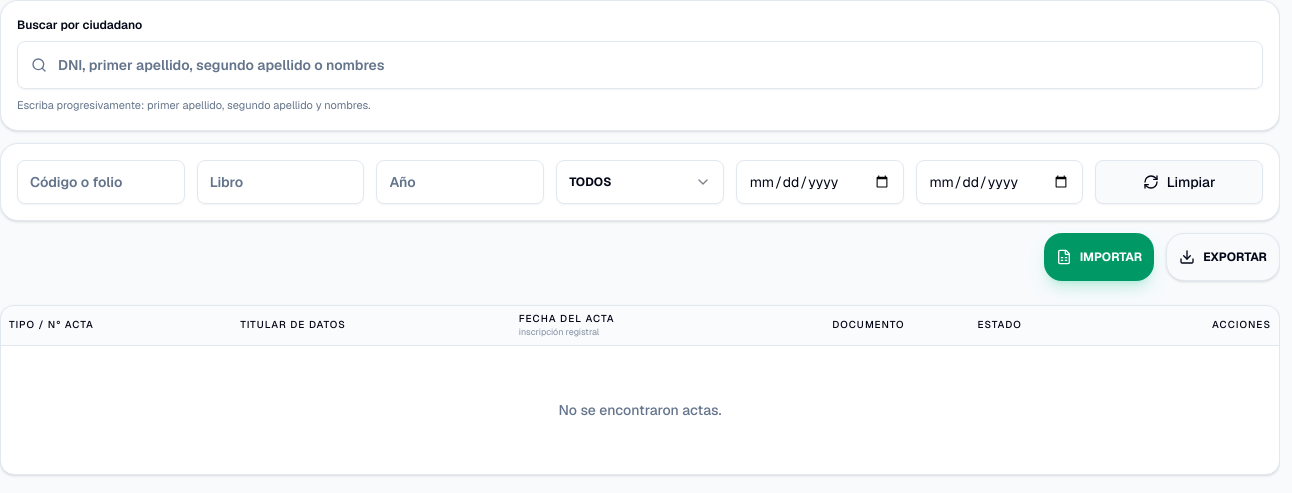
Filtros del Registro de Actas › limpiar restablece la búsqueda ciudadana
Type "QUISPE" into the field named "Buscar actas por ciudadano" at (640, 65), box [17,41,1263,89]
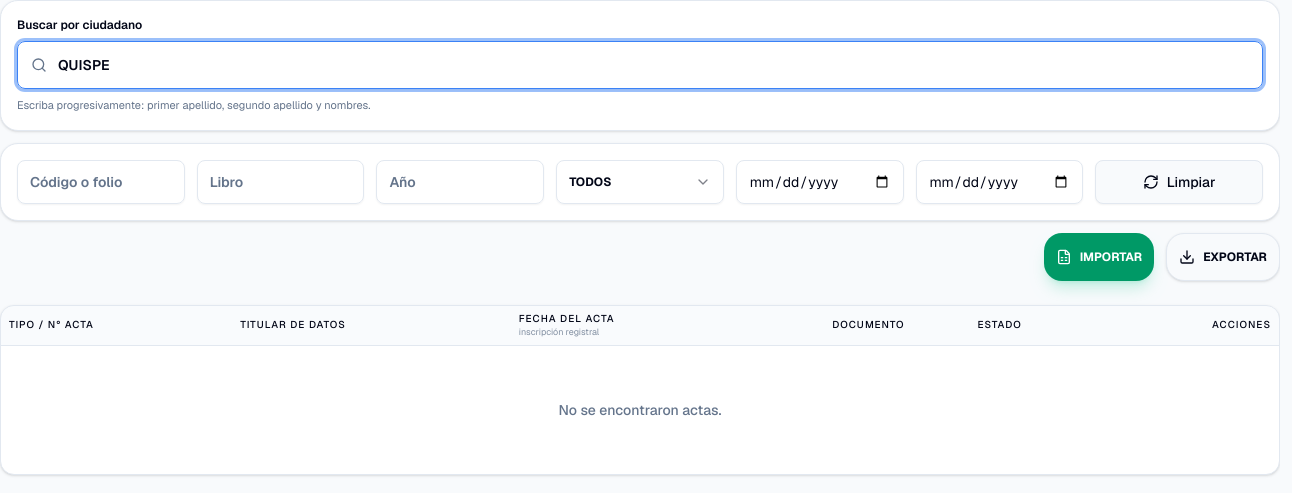
Click the button with aria-label "Limpiar filtros" at (1179, 182), box [1095,160,1263,204]
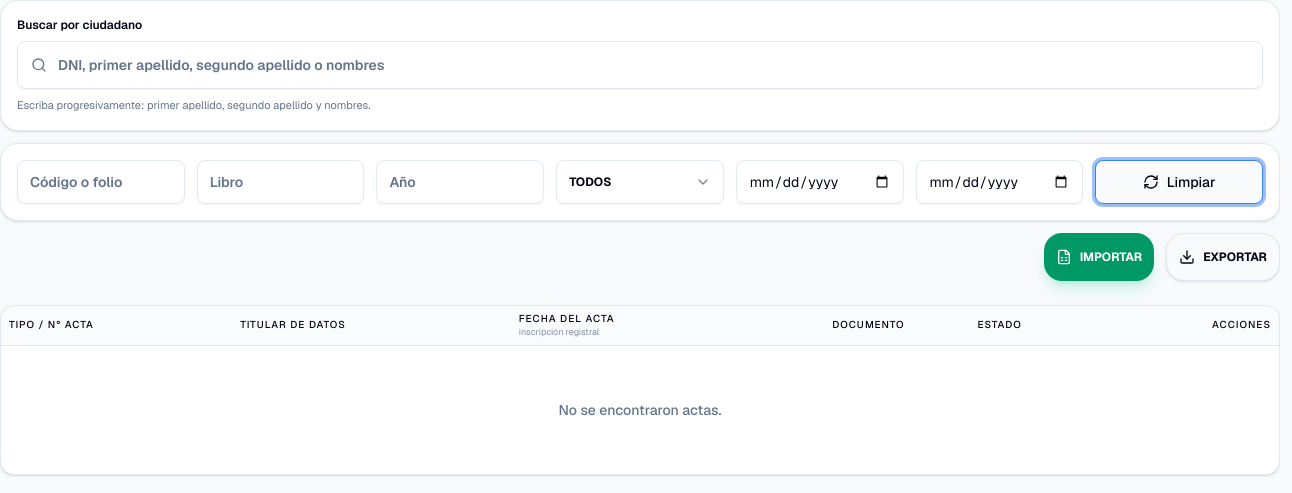
Now the field named "Buscar actas por ciudadano" is empty, box [17,41,1263,89]
